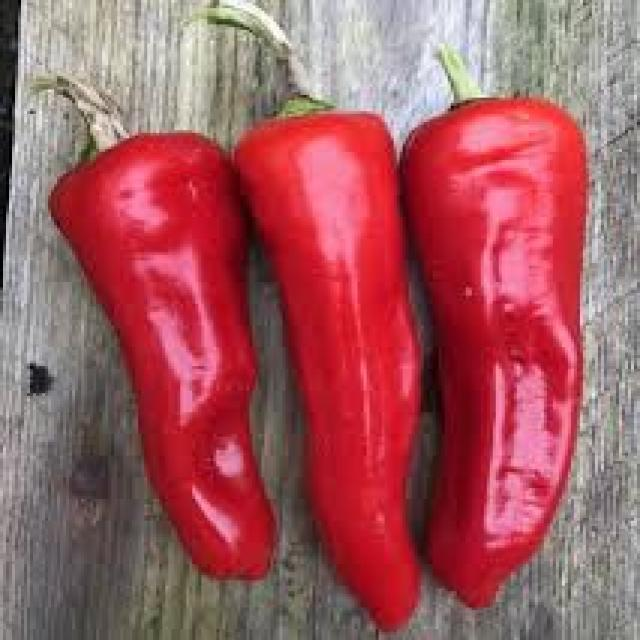Pepper: (230, 111, 438, 635), (47, 131, 279, 585), (397, 96, 592, 613)
